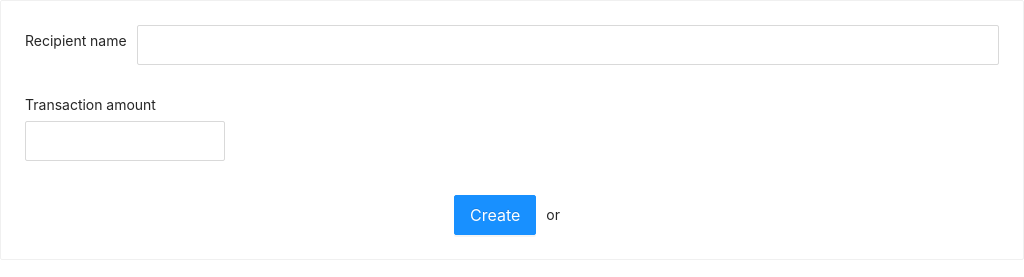
it: Transaction form › empty fields
Click the button "Create".
click(495, 215)  # box [454,195,536,235]
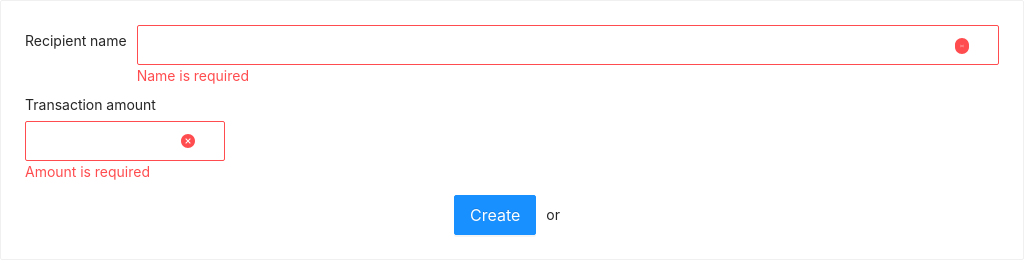
Result: the message "Name is required" is shown at [137,67,249,84]
Result: the message "Amount is required" is shown at [25,163,150,180]
